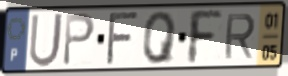F: (187, 8, 224, 67), (104, 10, 142, 67)
P: (61, 11, 97, 68)
Q: (142, 10, 179, 66)
R: (222, 12, 258, 61)
U: (27, 11, 66, 70)
